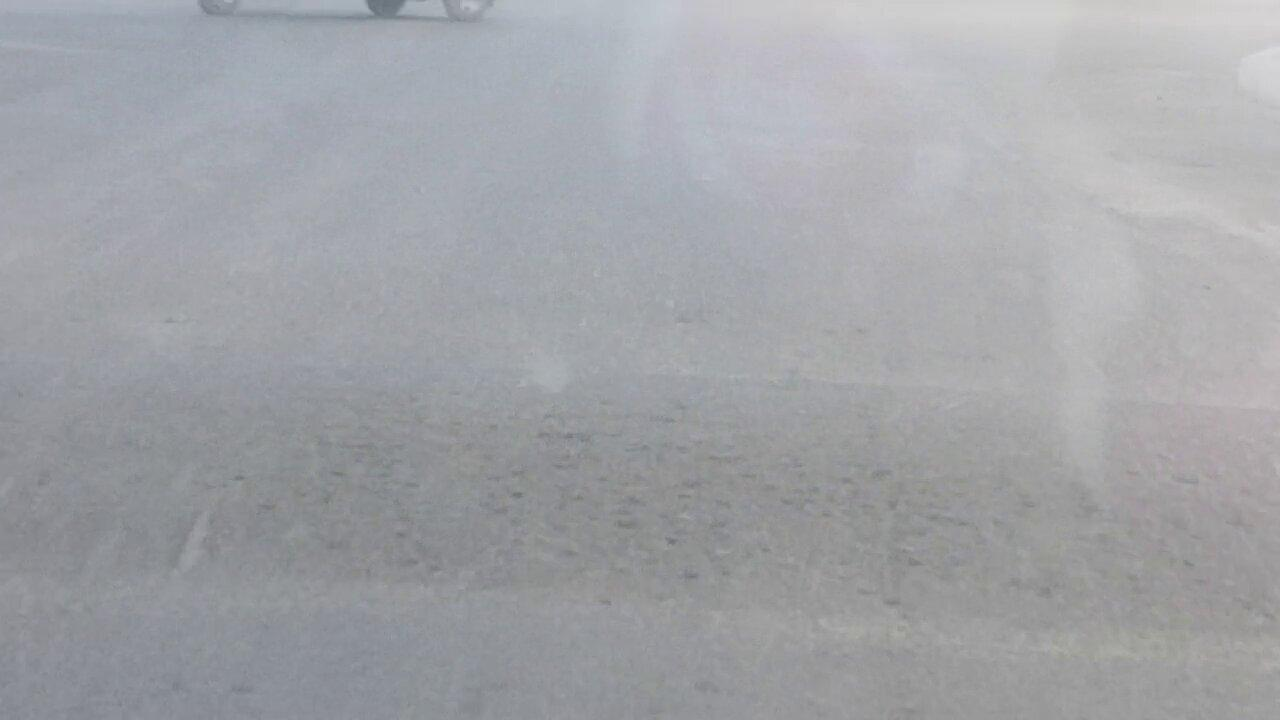Bump: (0, 333, 1268, 612)
